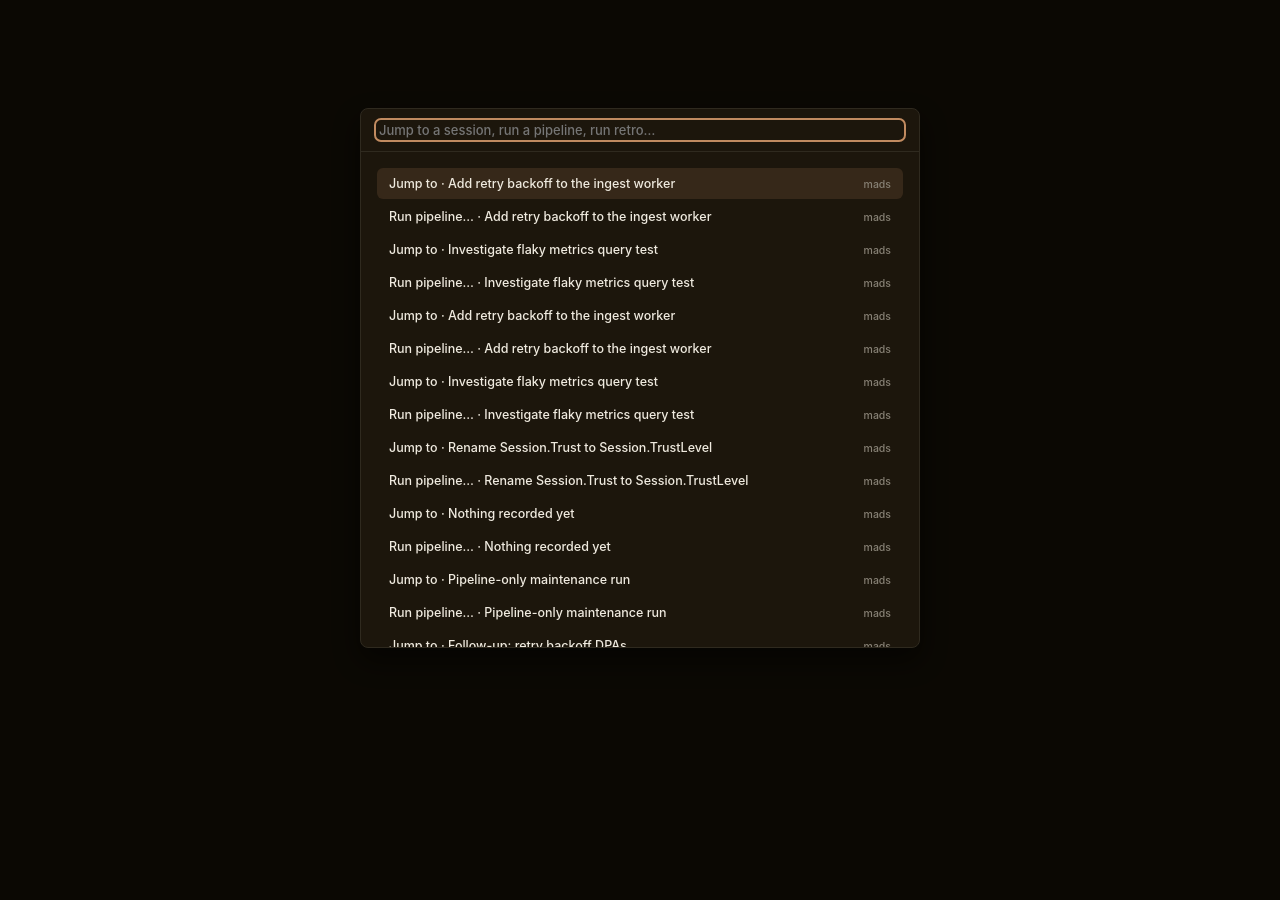
Test: CommandPalette › filters results as the query changes
Type "new session" into the field with placeholder "Jump to a session, run a pipeline, run retro…".
click(640, 130); type("new session")  # box [377,121,903,139]
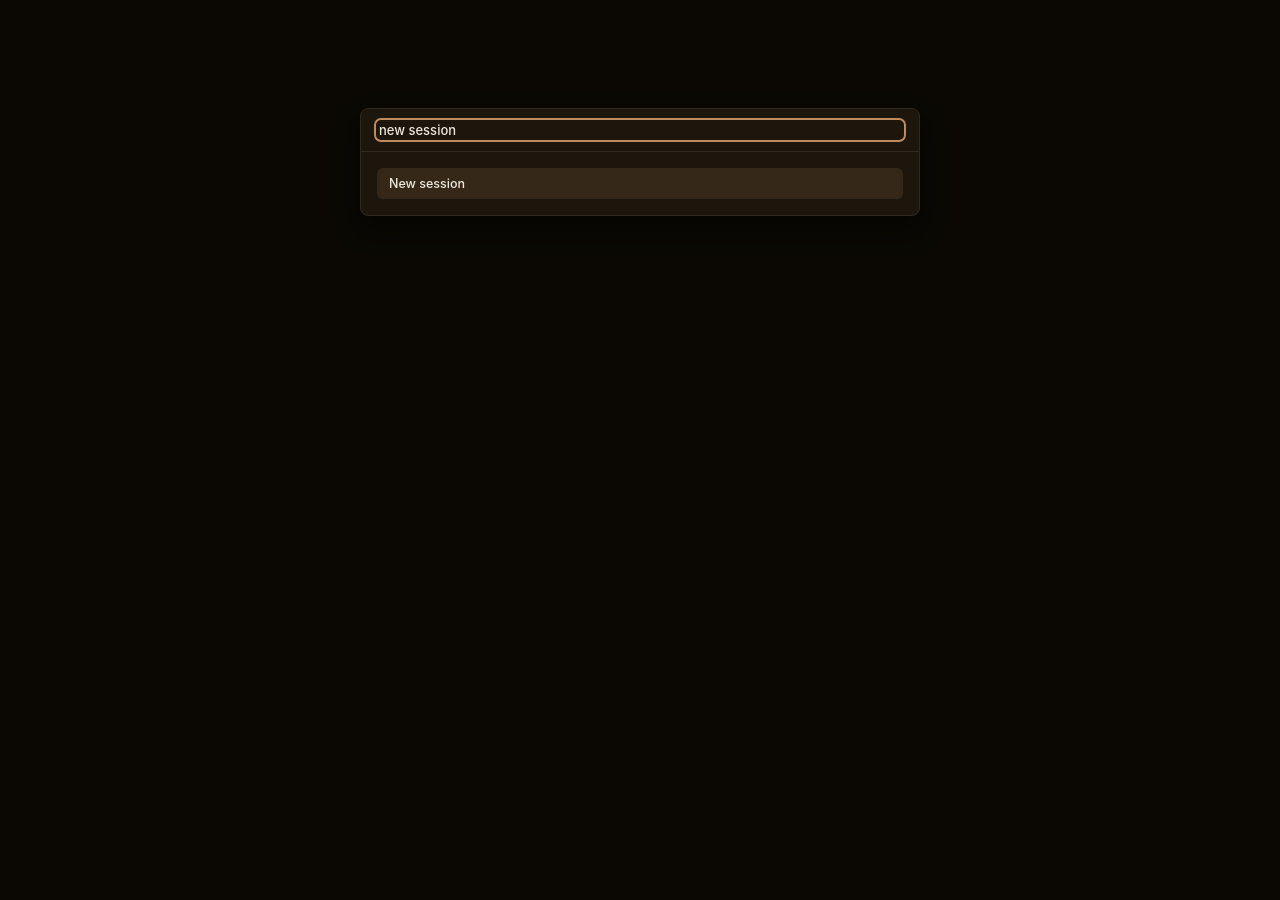
Result: the text "New session" is shown at [389,176,465,191]
Result: the button "Jump to · Add retry backoff to the ingest worker" is gone
